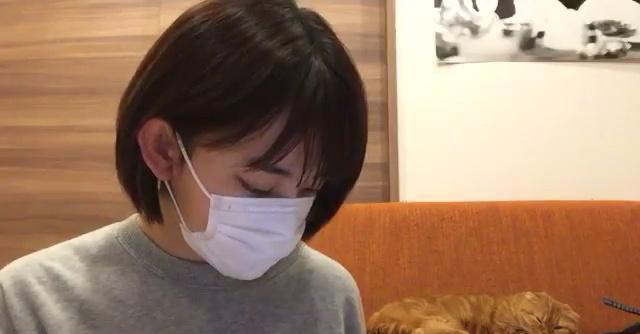OK: (161, 110, 332, 281)
